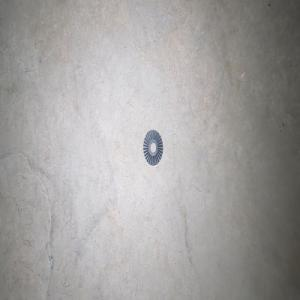Washer: (143, 129, 163, 165)
